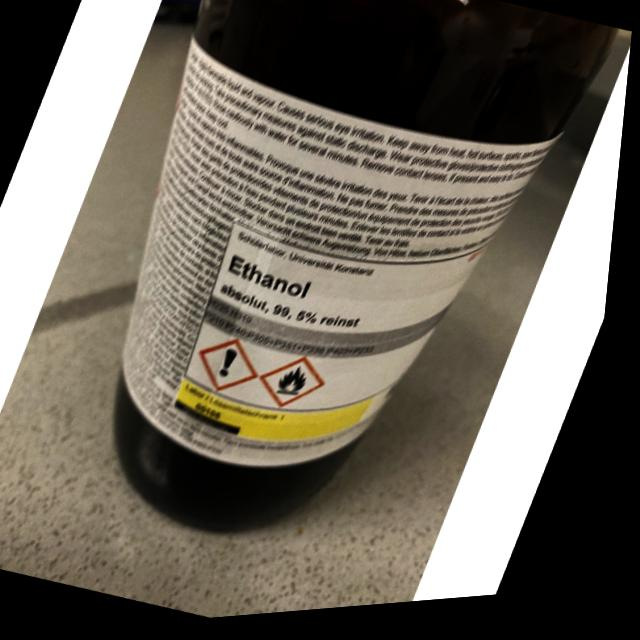flammable: (282, 367, 320, 406)
health-ozone layer hazard: (222, 350, 249, 385)
